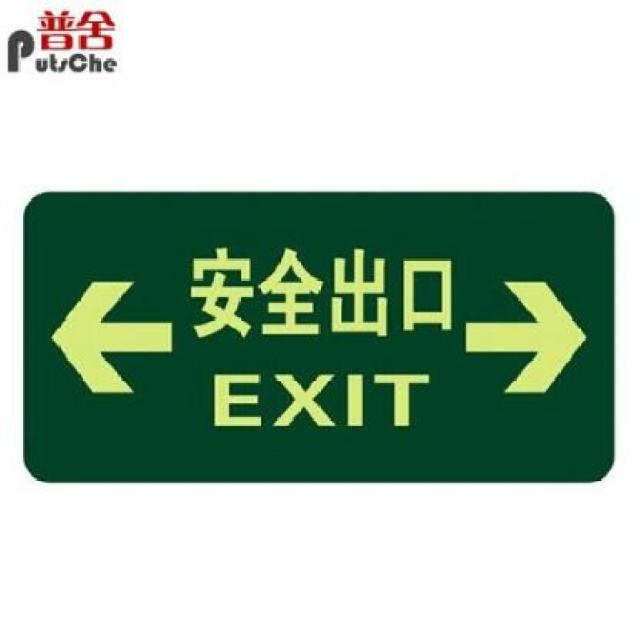exit_sign: (20, 178, 620, 491)
